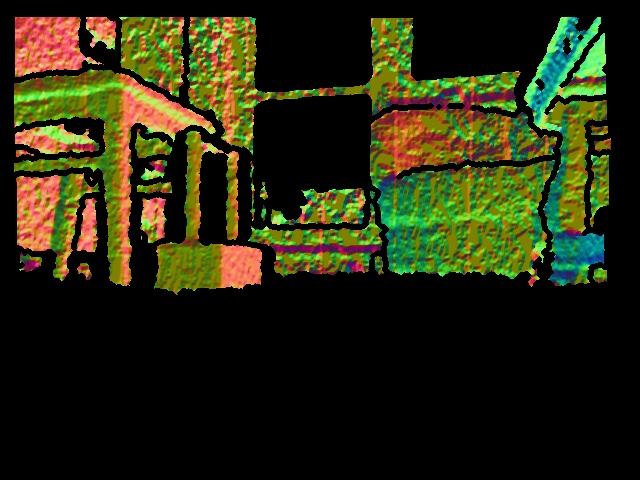station: (151, 127, 266, 291)
